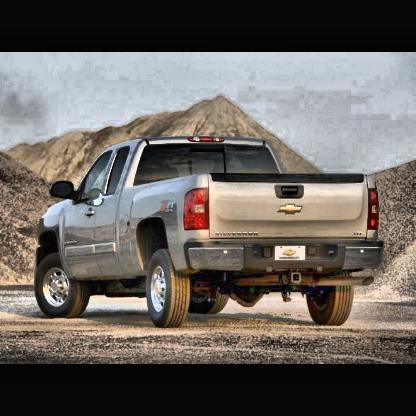Chevrolet Silverado 1500 Extended Cab 2012: (33, 136, 388, 331)
